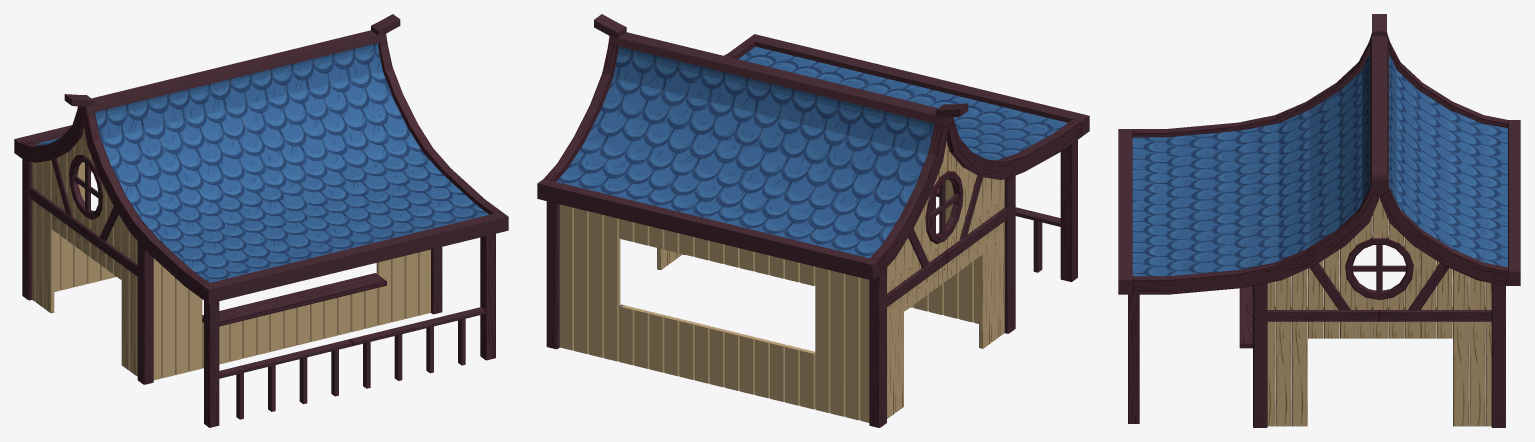
The model's file is Barn.fbx.
The picture shows the model from 3 angles, left to right: view 1: azimuth 30°, elevation 25°; view 2: azimuth 150°, elevation 25°; view 3: azimuth 270°, elevation 25°; orthographic projection. The views are drawn at different scales.
Parts seen in each view (by area): view 1: RoofTiles, RoofPilñars, Boards, Boards.001, Pillars, Cube.001, Cube.004, Cube.002, Cube.003; view 2: RoofTiles, Boards, RoofPilñars, Pillars, Boards.001, Cube.001, Cube.004; view 3: RoofTiles, RoofPilñars, Boards.001, Pillars, Cube.001, Cube.002.
Part boxes in pixels (x1,y1,x2,y2): RoofTiles: (36,43,488,282); RoofPilñars: (14,14,508,303); Boards: (54,162,430,380); Boards.001: (32,128,137,376); Pillars: (22,154,442,384); Cube.001: (204,233,495,427); Cube.004: (236,318,465,419); Cube.002: (202,273,386,326); Cube.003: (219,307,485,378); RoofTiles: (556,46,1067,258); Boards: (559,179,978,422); RoofPilñars: (537,14,1089,280); Pillars: (546,171,1015,427); Boards.001: (657,140,1004,418); Cube.001: (1060,140,1077,281); Cube.004: (930,196,1042,272); RoofTiles: (1132,53,1507,276); RoofPilñars: (1118,14,1520,294); Boards.001: (1267,196,1491,426); Pillars: (1253,236,1505,427); Cube.001: (1128,294,1139,423); Cube.002: (1239,286,1252,348).
Size of the model in its own units: 2932 by 2110 by 3009.
Materials: 1 (1 with a texture image).
